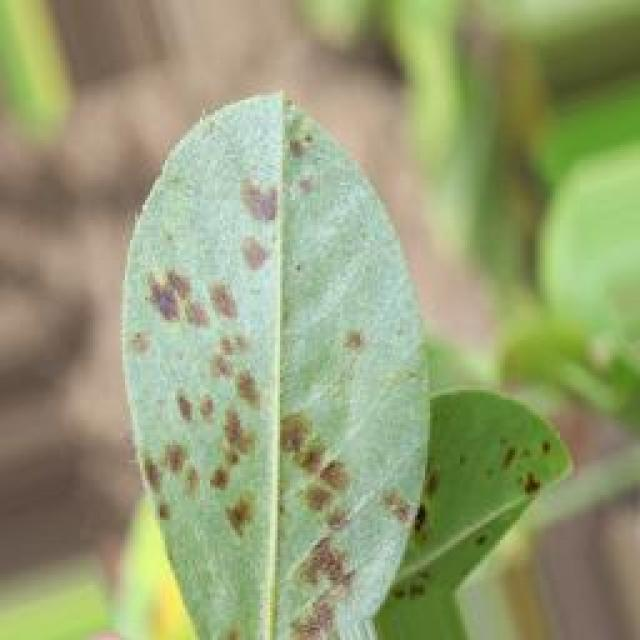Whitefly: (113, 80, 564, 621)
